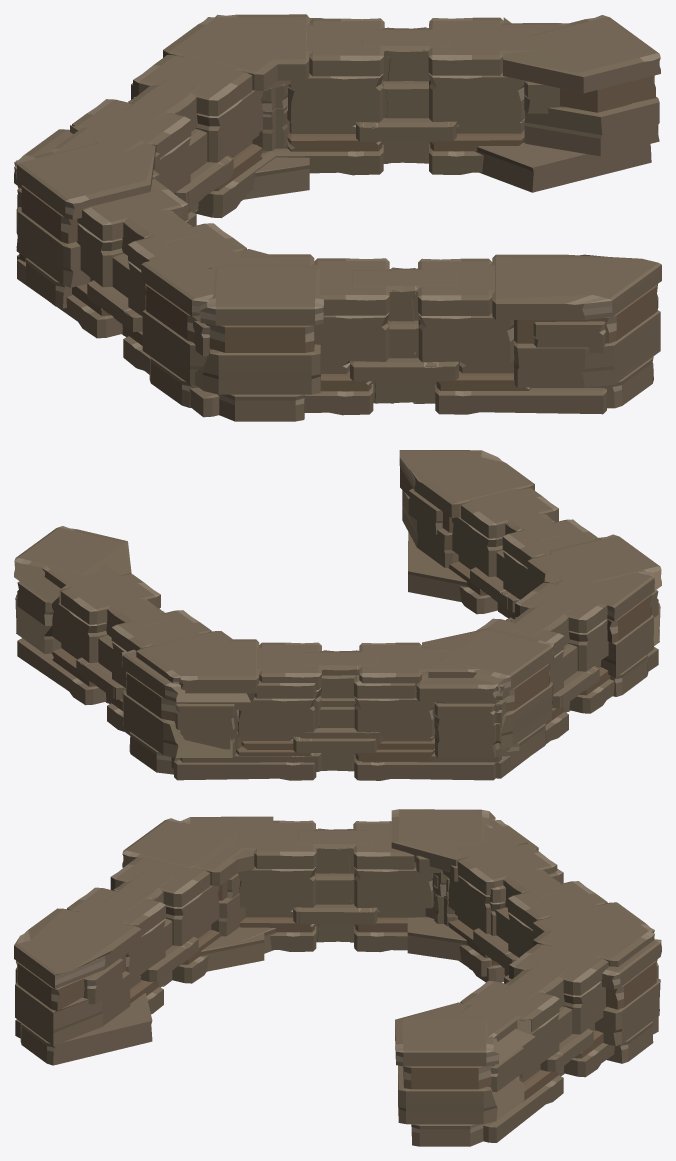
The model's file is four.glb.
3 views of the same model, one above another, from view 1: azimuth 30°, elevation 25°; view 2: azimuth 150°, elevation 25°; view 3: azimuth 270°, elevation 25° (orthographic). The views are drawn at different scales.
Parts seen in each view (by area): view 1: Wall_Modular.010; view 2: Wall_Modular.010; view 3: Wall_Modular.010.
Boxes of the visible parts, x1,y1,x2,y2 form: Wall_Modular.010: (14,14,661,421); Wall_Modular.010: (14,450,661,780); Wall_Modular.010: (14,809,661,1146).
Size of the model in its own units: 1.97 by 0.3869 by 2.22.
